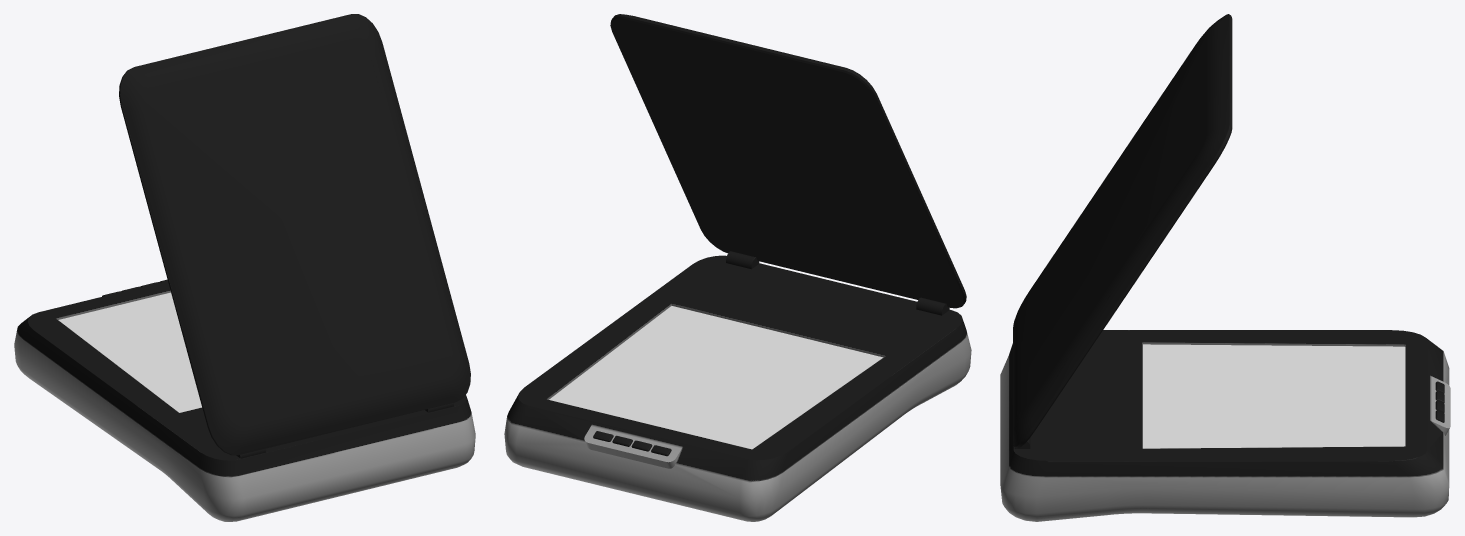
File: SCANNER.fbx
3 views of the same model, side by side, from view 1: azimuth 30°, elevation 25°; view 2: azimuth 150°, elevation 25°; view 3: azimuth 270°, elevation 25° (orthographic). The views are drawn at different scales.
Visible parts, largest first — view 1: SCANNER, Plane; view 2: SCANNER, Plane; view 3: SCANNER, Plane.
Boxes of the visible parts, box(x1,y1,x2,y2) form: SCANNER: box(14, 14, 475, 521); Plane: box(58, 292, 201, 412); SCANNER: box(504, 14, 971, 521); Plane: box(549, 306, 883, 449); SCANNER: box(1000, 14, 1450, 521); Plane: box(1143, 344, 1405, 448).
Bounding box in the file's own units: 200 × 275 × 285.
